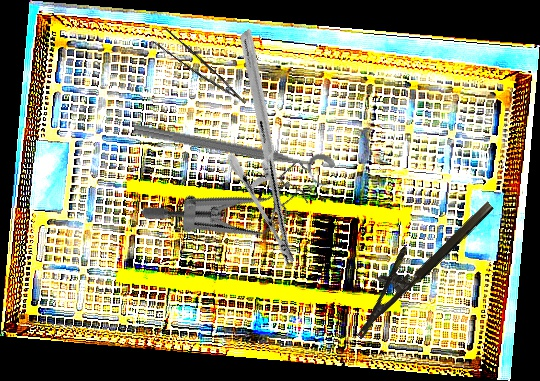Fixation Ring: (129, 117, 337, 190)
Needle Holder: (152, 28, 383, 268), (335, 183, 496, 340)
Speculum: (139, 111, 330, 288)
Tissue Forceps: (149, 22, 247, 118)
